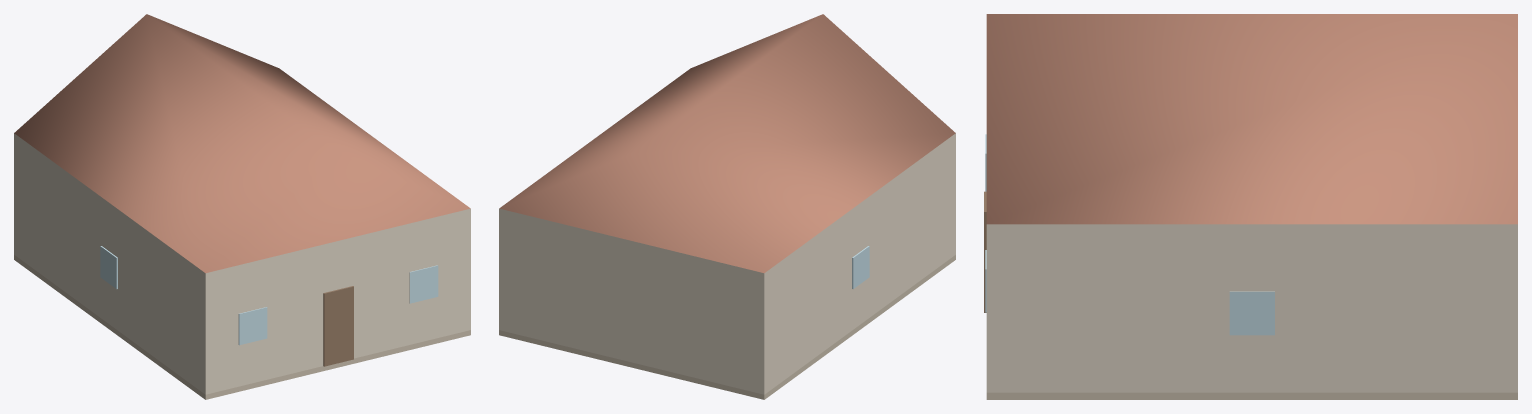
Rendered from house.glb.
3 views of the same model, side by side, from view 1: azimuth 30°, elevation 25°; view 2: azimuth 150°, elevation 25°; view 3: azimuth 270°, elevation 25° (orthographic). The views are drawn at different scales.
Parts seen in each view (by area): view 1: roof, walls, base, window (×3), door; view 2: roof, walls, base, window; view 3: roof, walls, base, window.
Boxes of the visible parts, x1,y1,x2,y2 form: roof: [14, 14, 470, 273]; walls: [14, 133, 470, 394]; base: [14, 255, 470, 399]; window (×3): [100, 246, 438, 345]; door: [323, 286, 353, 366]; roof: [499, 14, 955, 273]; walls: [499, 133, 955, 394]; base: [499, 255, 955, 399]; window: [852, 246, 869, 288]; roof: [986, 14, 1517, 224]; walls: [986, 224, 1517, 392]; base: [986, 392, 1517, 399]; window: [1229, 291, 1274, 335].
Size of the model in its own units: 0.00805 by 0.00615 by 0.01.
